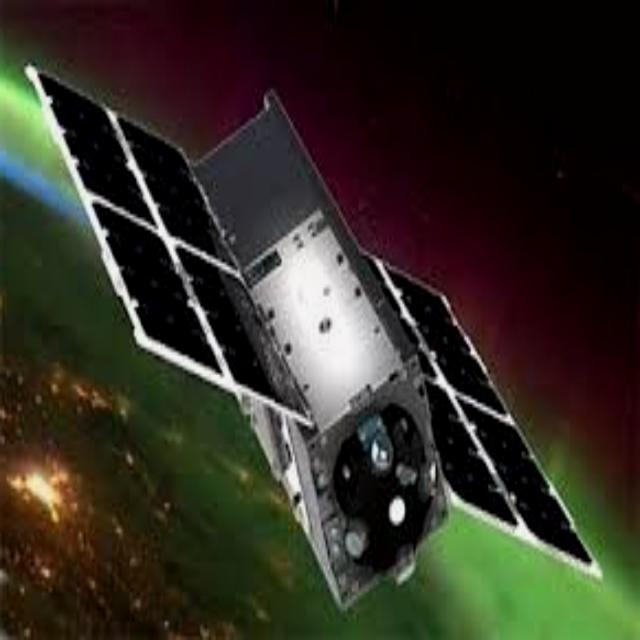satellite: (23, 60, 603, 601)
